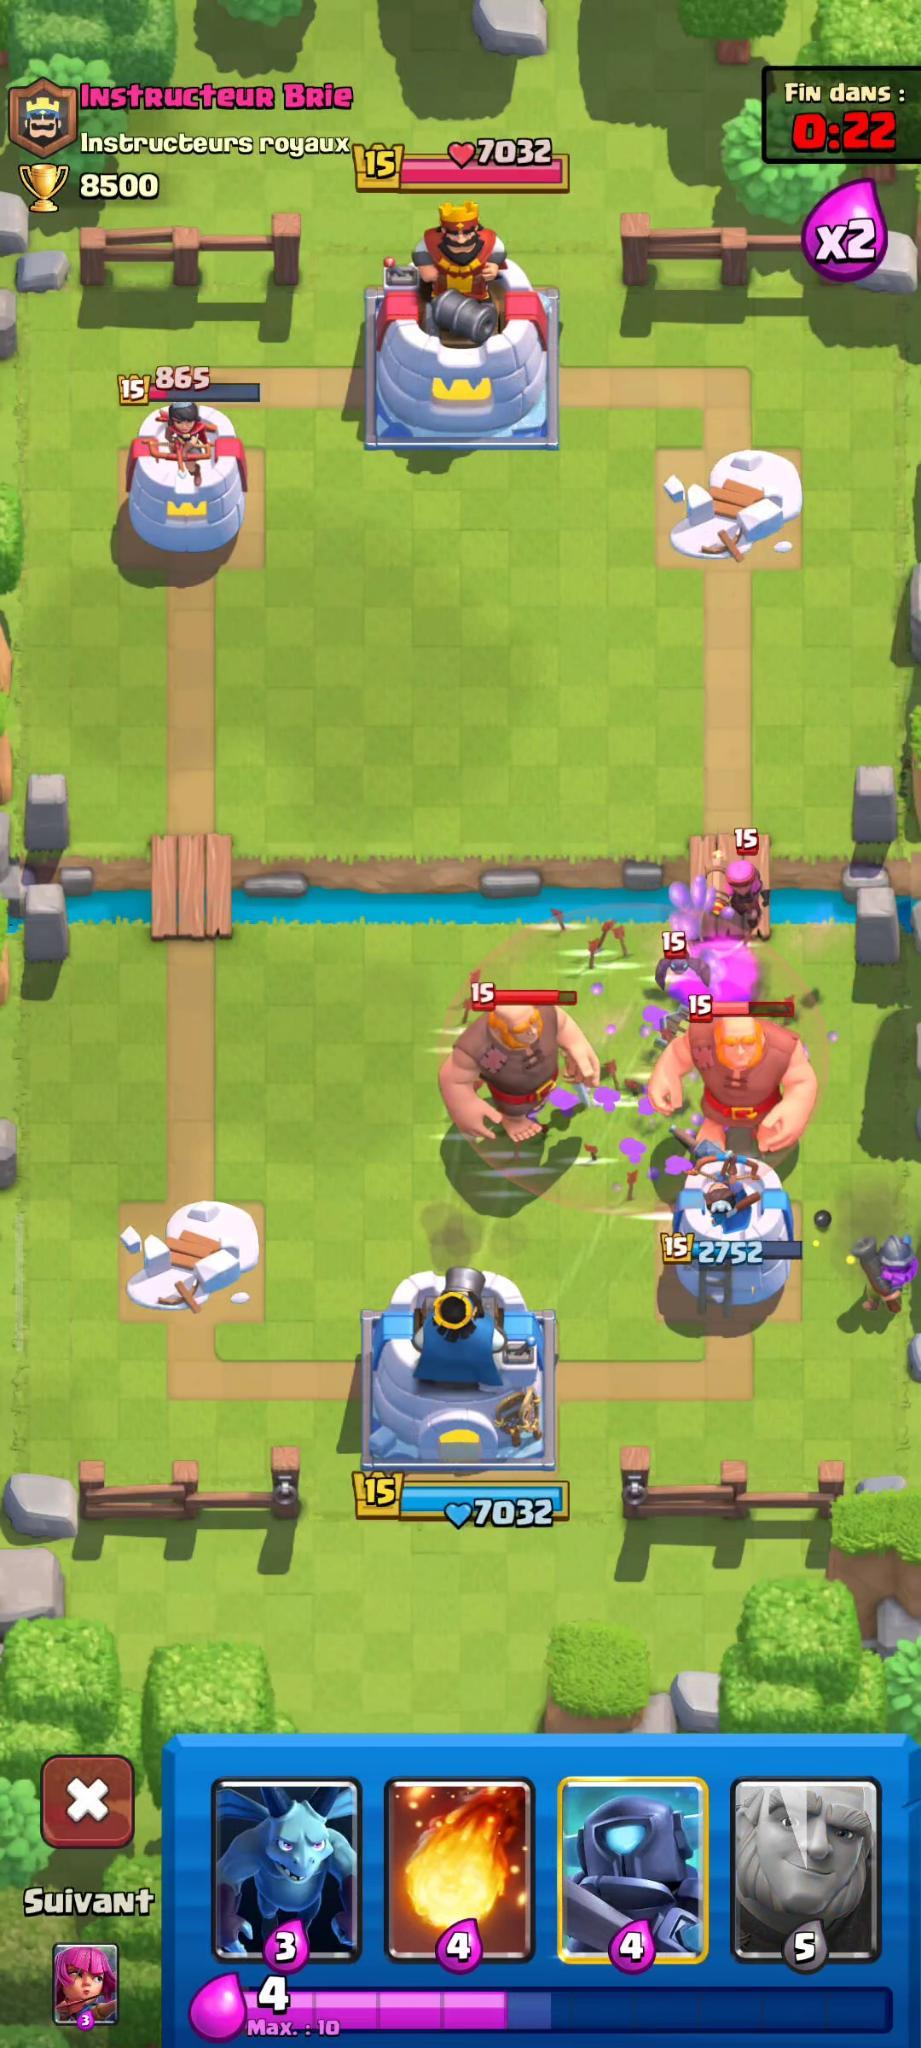enemy_bats: (647, 932, 719, 996)
enemy_firecracker: (705, 820, 780, 932)
enemy_giant: (432, 978, 604, 1161), (652, 992, 825, 1160)
player_musketeer: (842, 1220, 920, 1316)
